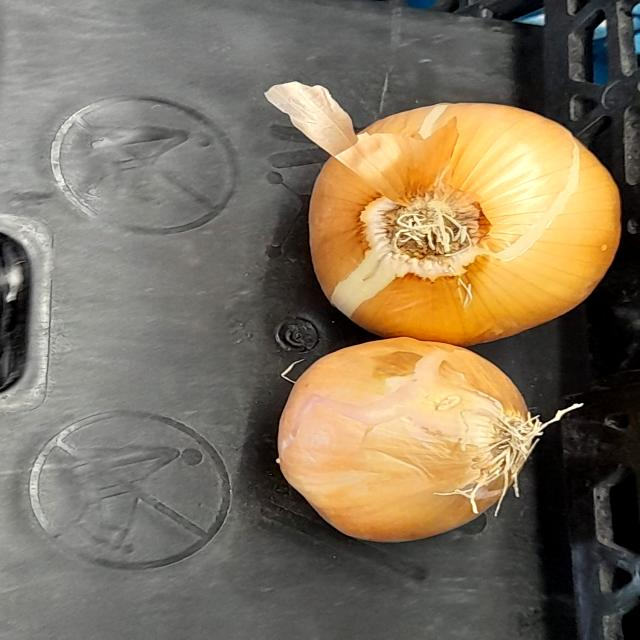onion: (296, 81, 611, 338), (253, 326, 549, 539)
